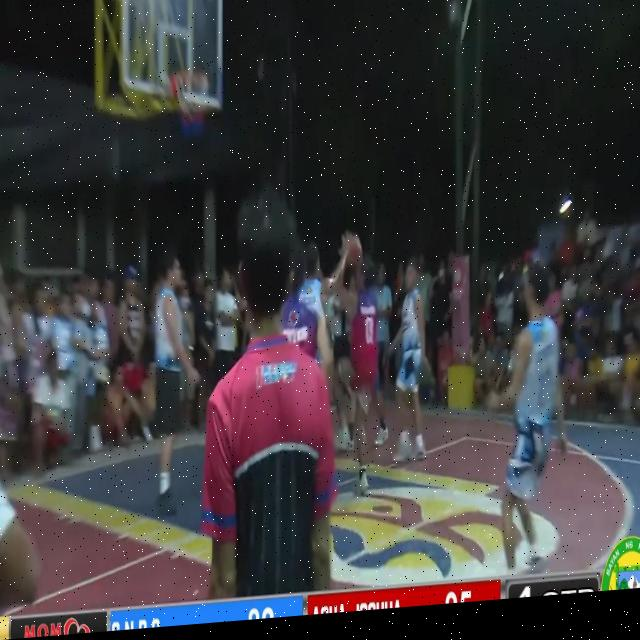basketball: (341, 224, 368, 282)
hoop: (172, 66, 210, 145)
